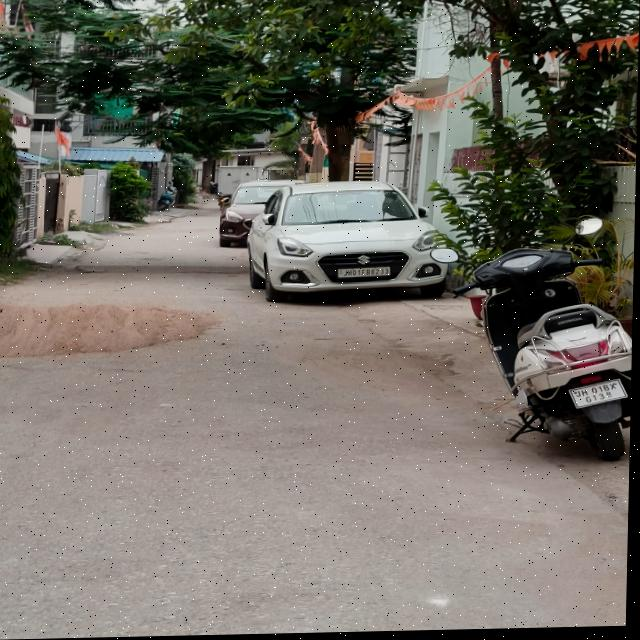bike: (433, 225, 636, 465), (160, 181, 179, 213)
car: (249, 175, 455, 311), (220, 170, 273, 250)
